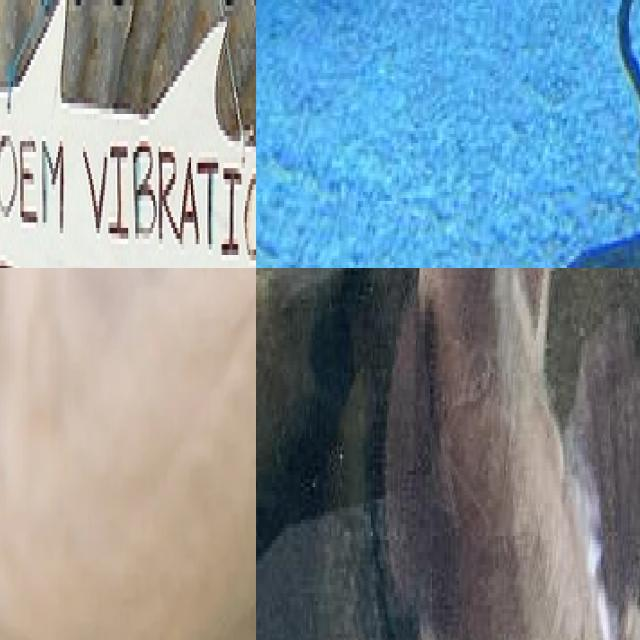fish: (256, 268, 640, 640), (0, 268, 256, 640), (0, 0, 256, 268)
